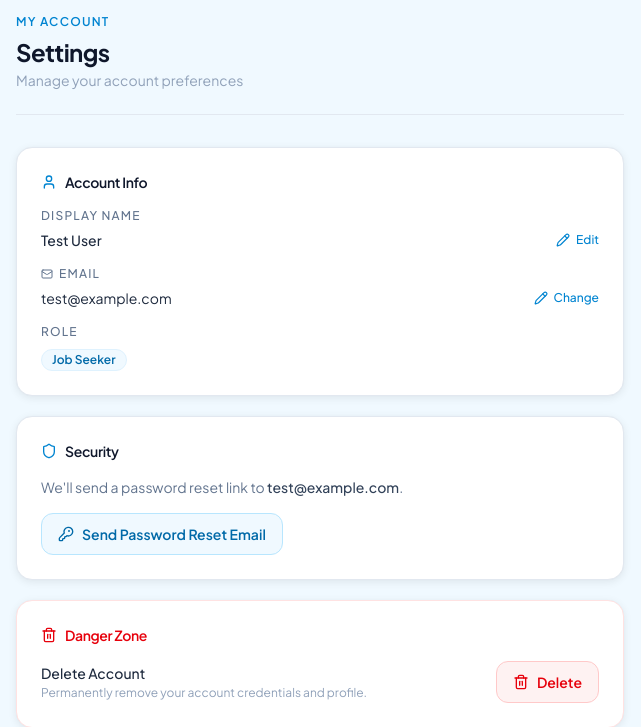
Test: SettingsPage › shows error when updateDisplayName fails
Click the button "Edit" at (578, 240), box [556,232,599,248]
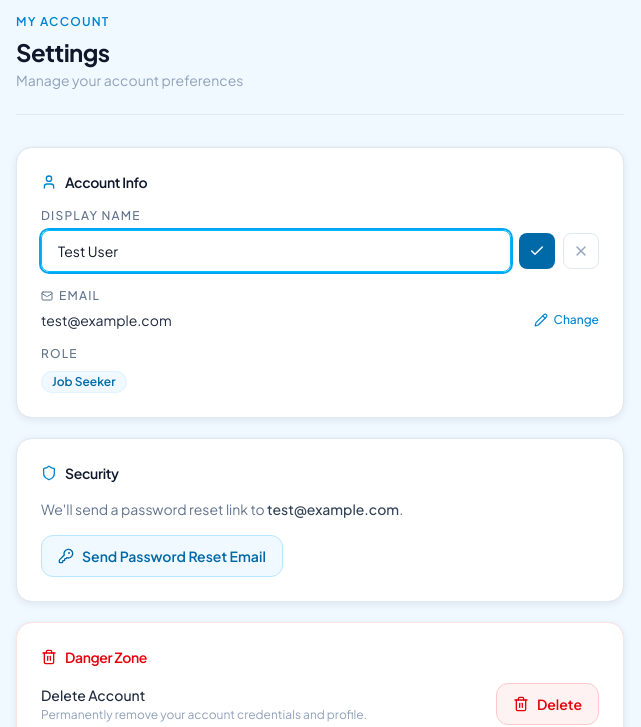
Replace the text in the field showing "Test User" with "Another Name" at (276, 251), box [41,230,511,272]
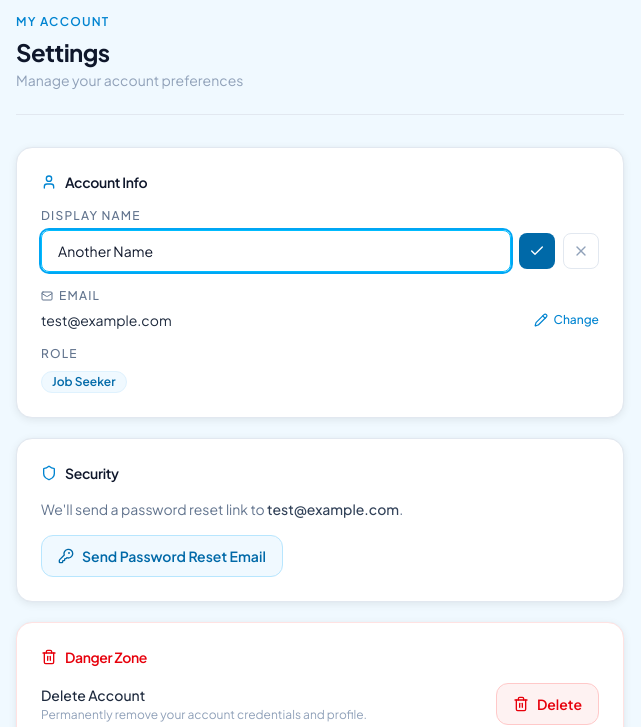
Press Enter in the field showing "Test User", box [41,230,511,272]
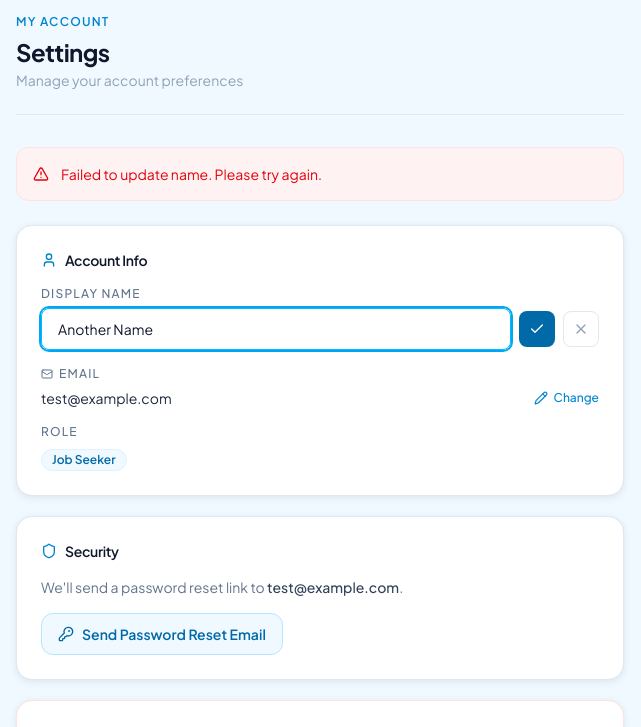
Expected: the text "Failed to update name. Please try again." is shown, [16,147,624,201]
